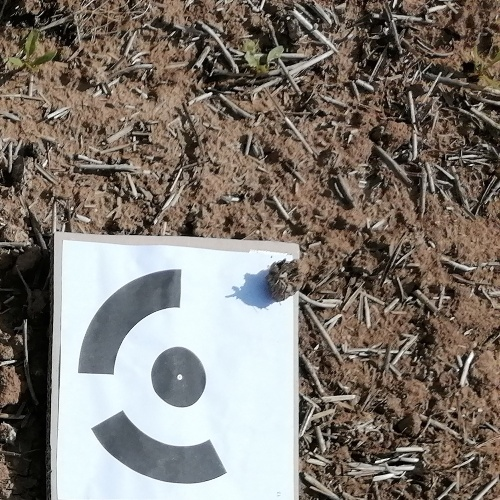beet: (5, 30, 56, 68), (471, 44, 500, 91), (246, 44, 284, 77)
